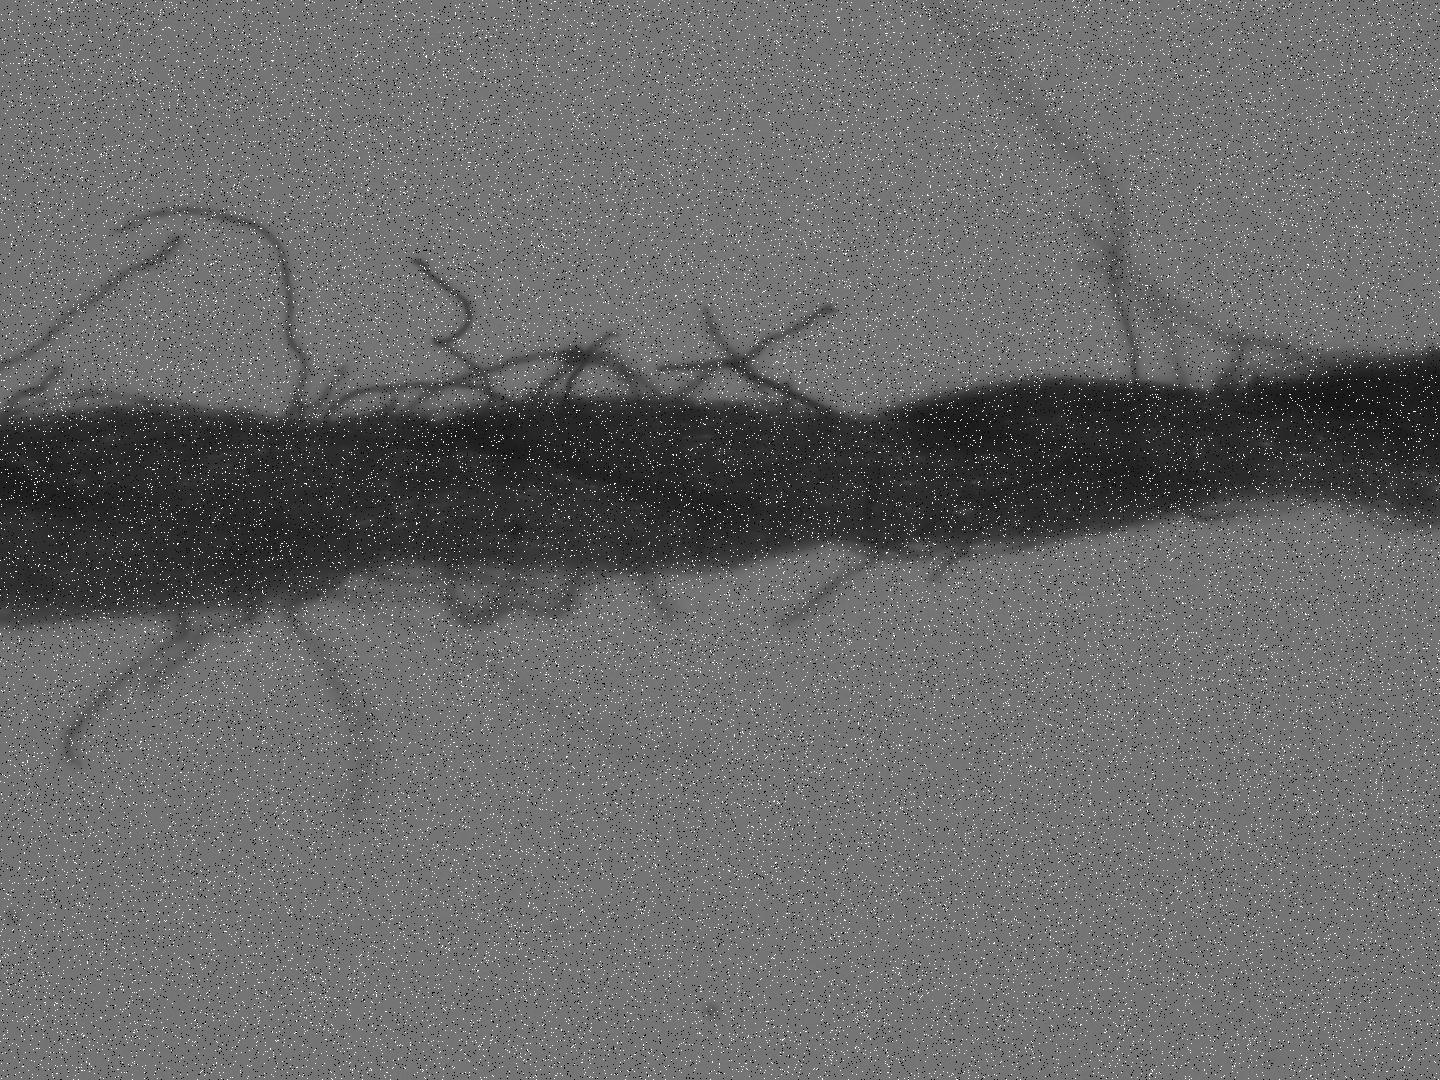loop_fiber: (401, 344, 667, 419), (442, 556, 613, 630), (329, 372, 524, 425)
protruding_fiber: (931, 0, 1145, 391), (311, 574, 695, 760), (110, 197, 311, 421), (1069, 204, 1322, 362), (1, 237, 181, 373), (62, 607, 190, 778), (287, 571, 369, 818), (1064, 259, 1188, 388), (676, 305, 837, 404), (413, 254, 495, 413), (146, 593, 266, 697), (654, 356, 846, 415), (771, 547, 901, 628), (700, 301, 769, 413), (1, 370, 67, 419), (639, 564, 678, 615)
